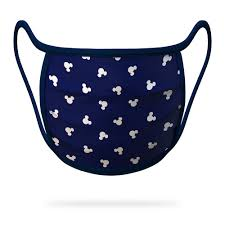cloth_mask: (12, 18, 213, 178)
